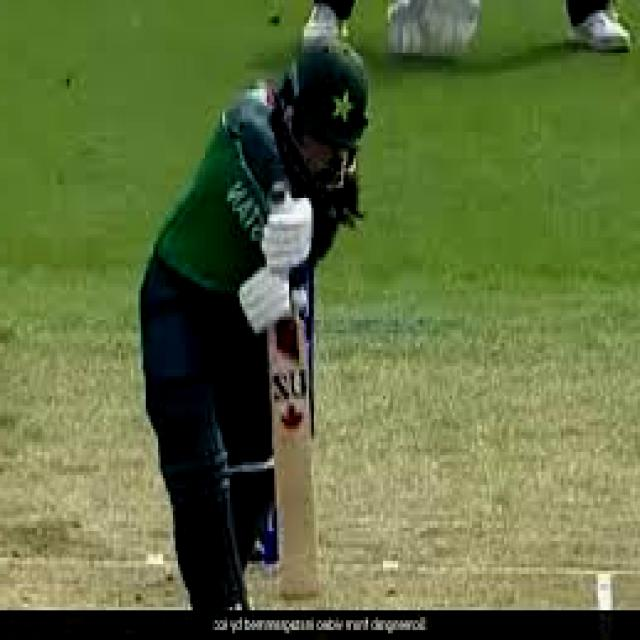toe: (271, 528, 329, 603)
